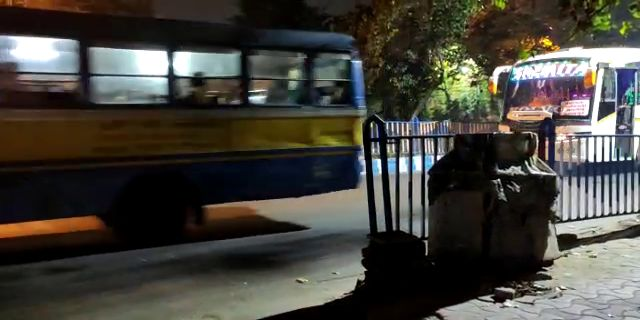Bus: (12, 5, 368, 222), (495, 47, 632, 188)
